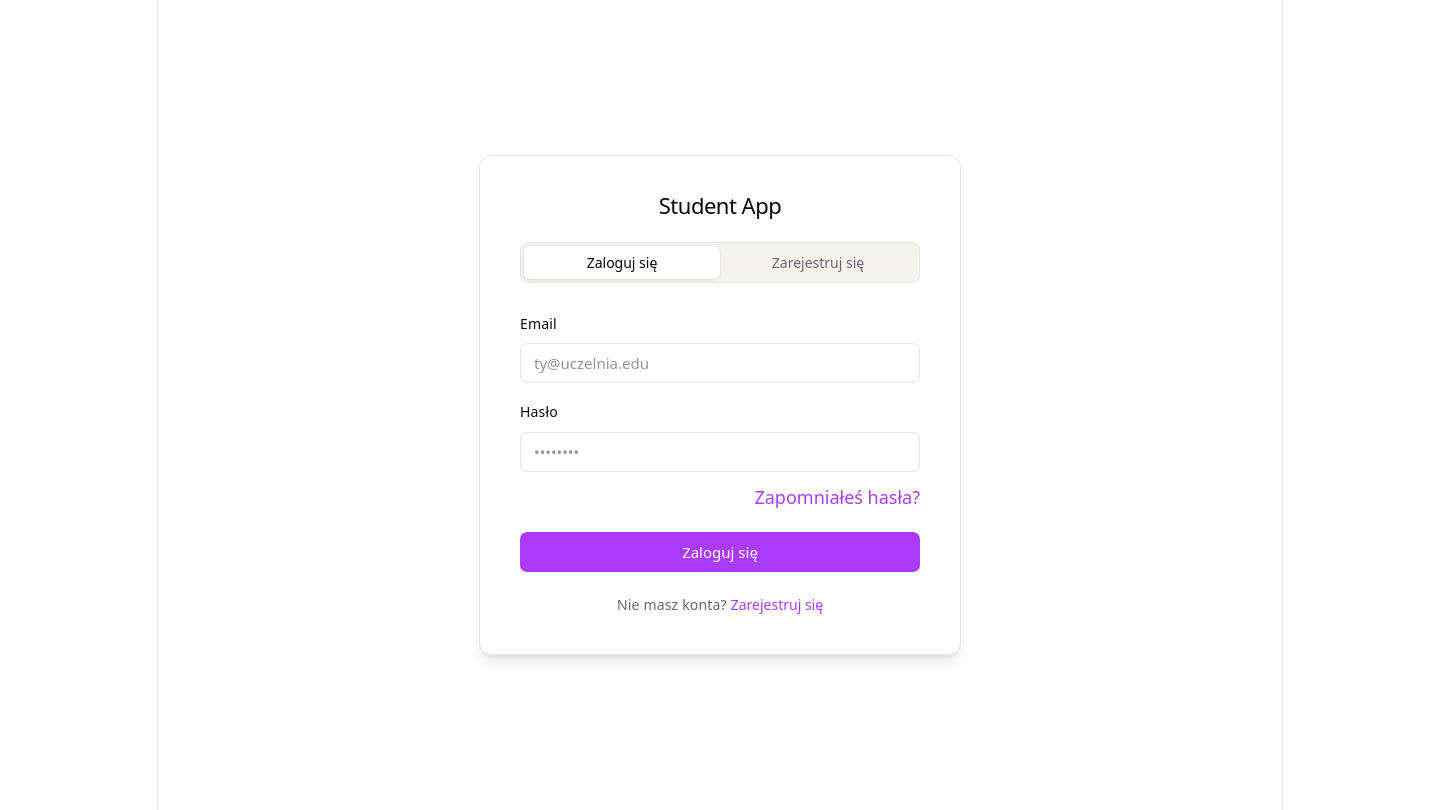
Test: AuthPage › changes form after clicking register button
The image size is (1440, 810).
Click the button "Zarejestruj się" at x=777, y=604, box top-left (731, 595), bottom-right (823, 614)
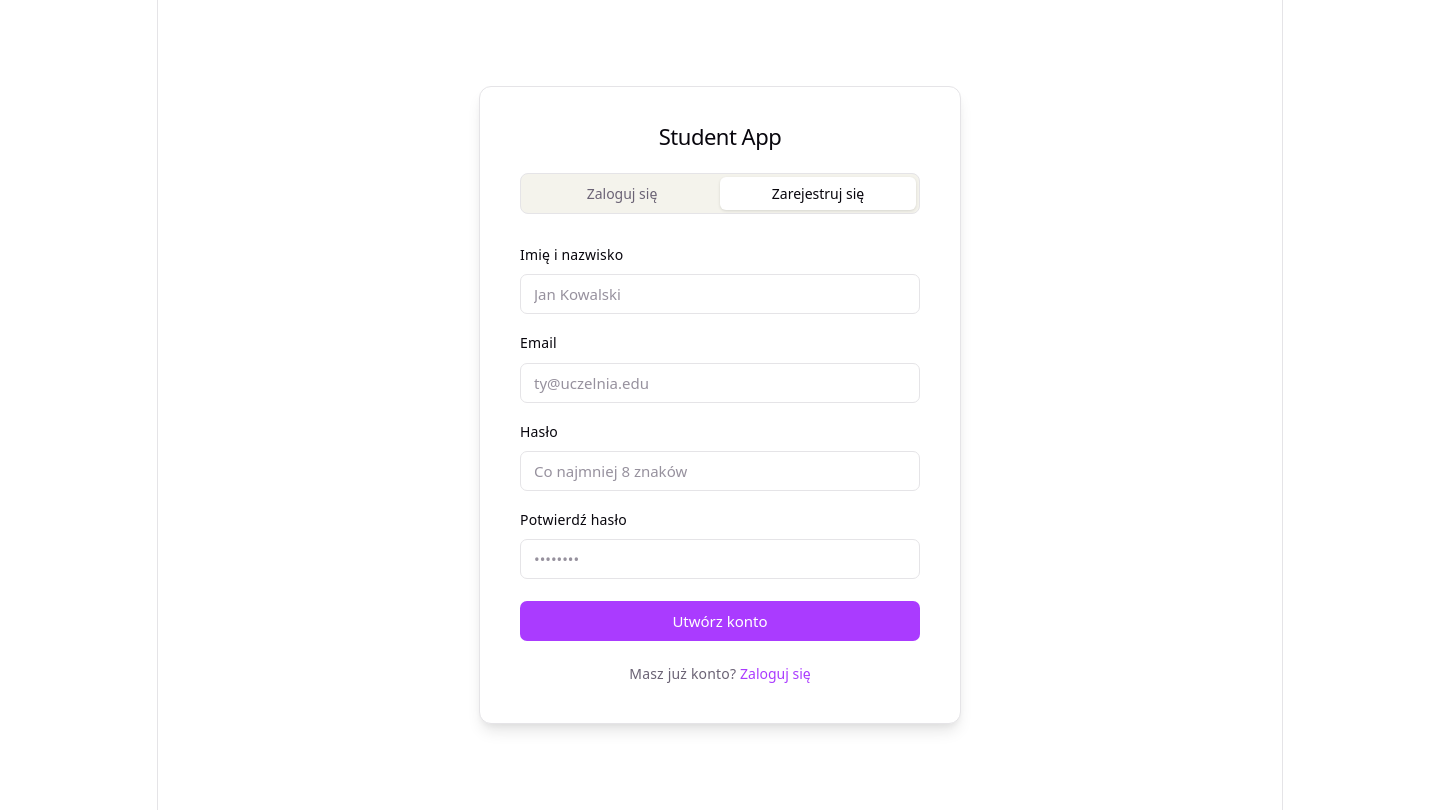
Expected: the field labelled "Email" is shown, top-left (520, 362), bottom-right (920, 402)
Result: the field labelled "Imię i nazwisko" is shown at top-left (520, 274), bottom-right (920, 314)
Result: the password field labelled "Potwierdź hasło" is shown at top-left (520, 539), bottom-right (920, 579)
